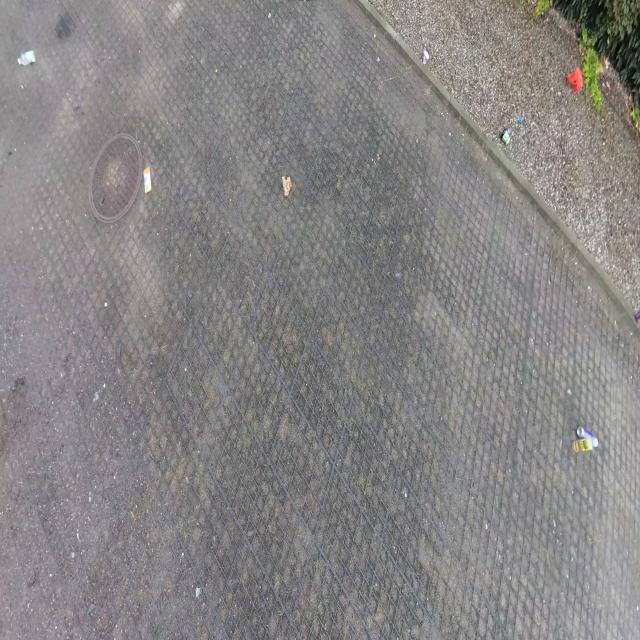rubbish: (566, 66, 584, 96), (575, 426, 598, 447), (568, 439, 591, 458), (17, 50, 36, 66), (143, 166, 152, 196), (280, 176, 291, 197), (500, 128, 511, 145), (423, 51, 429, 64), (634, 309, 639, 320), (519, 115, 524, 124)
